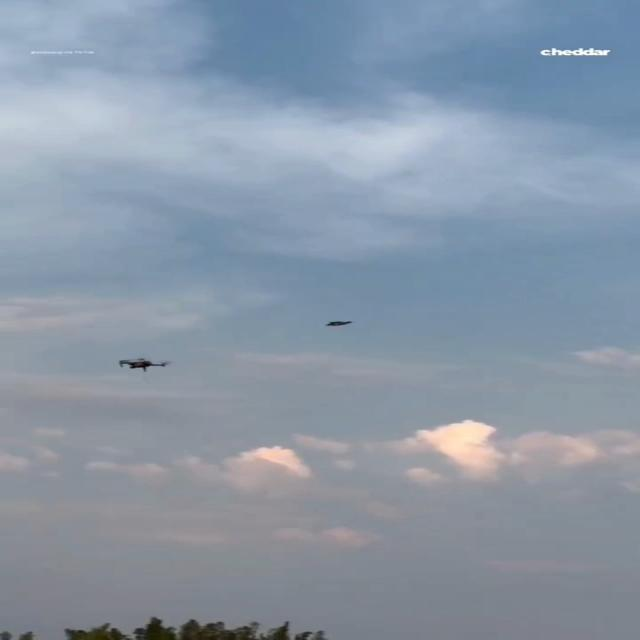bird: (324, 320, 352, 326)
drone: (118, 358, 170, 372)
